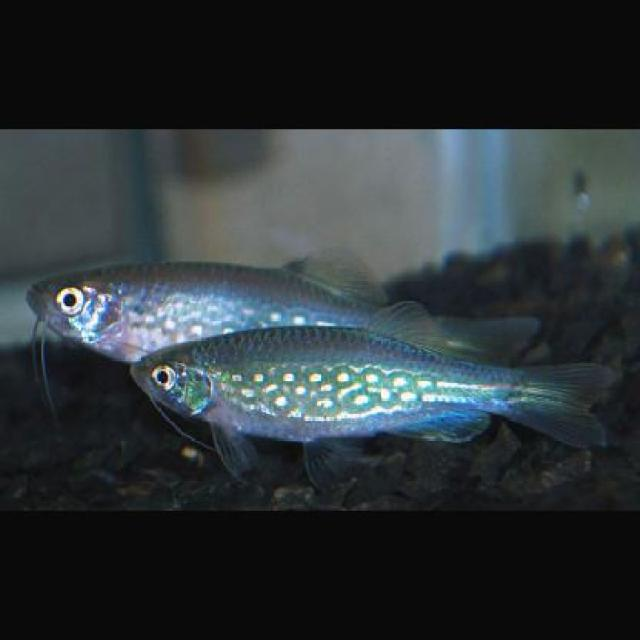ZebraFish: (135, 297, 598, 457)
